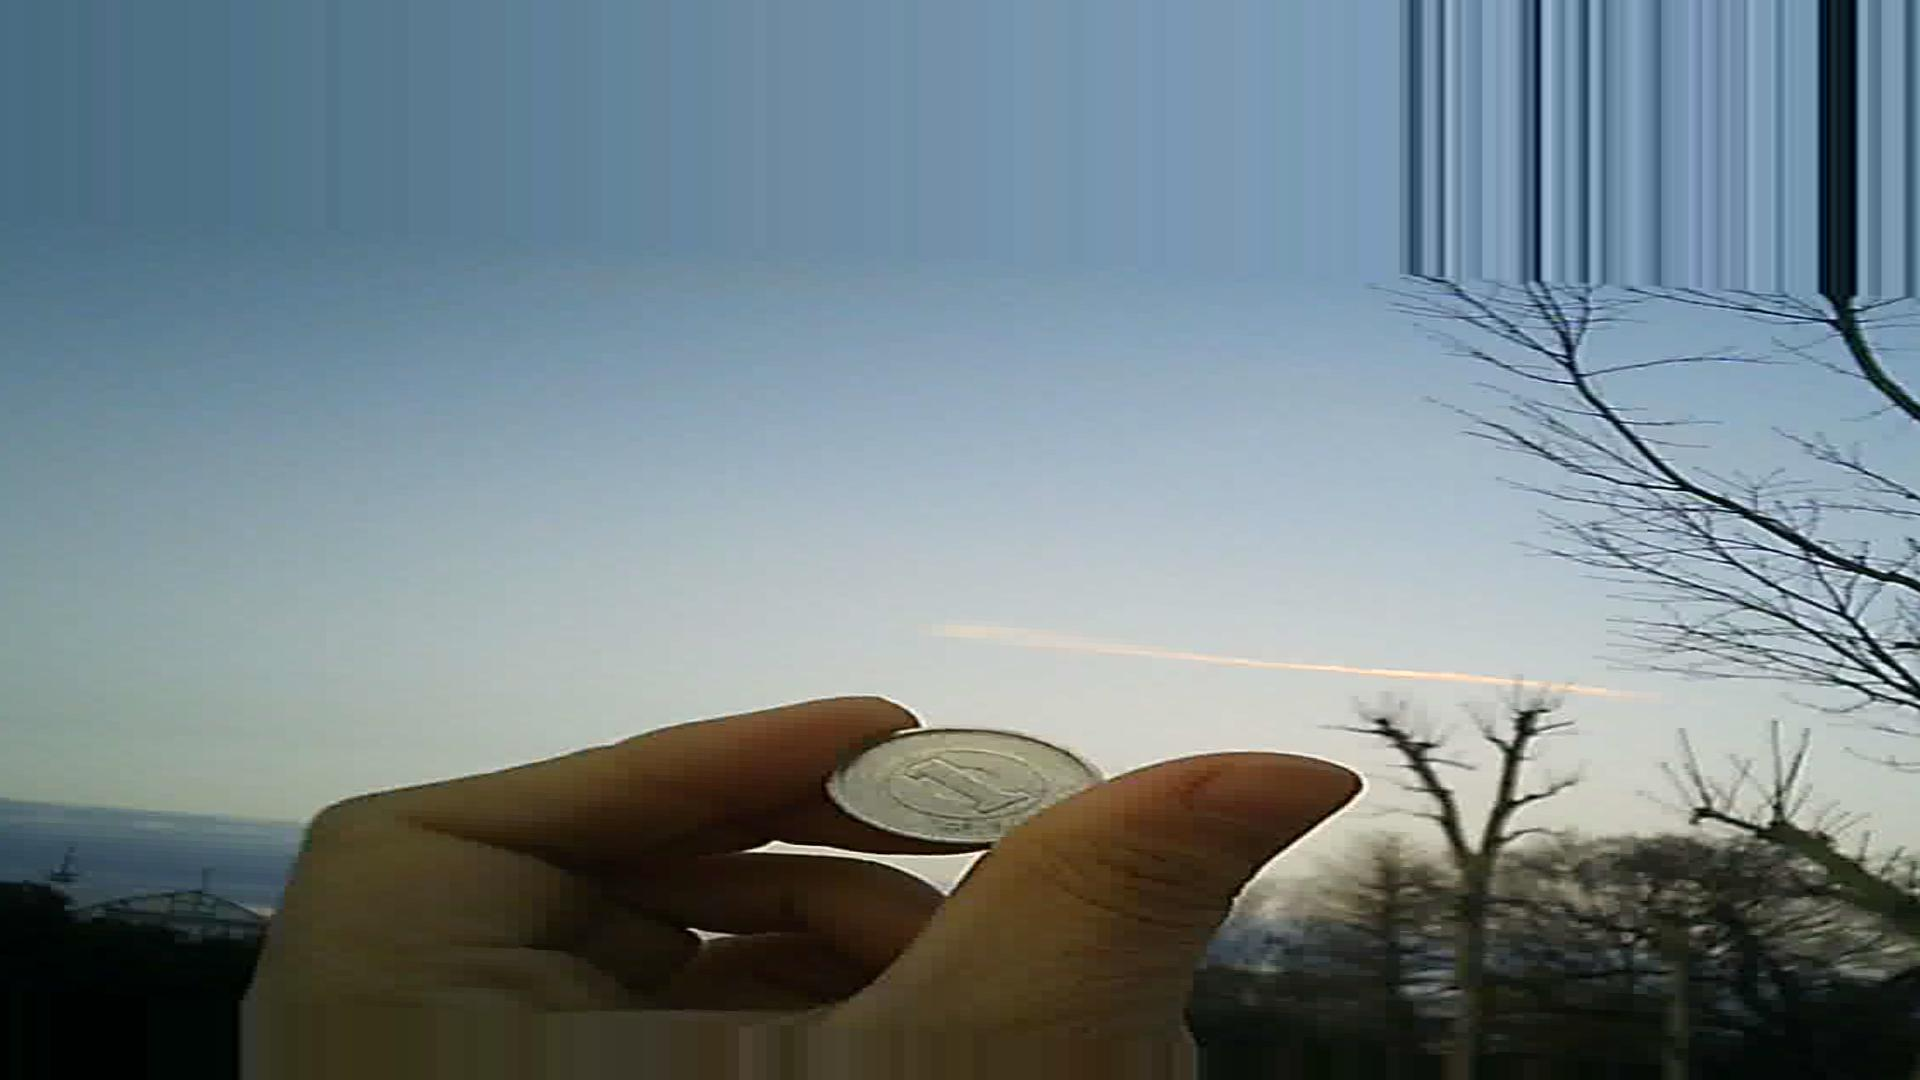1 Yen: (818, 699, 1113, 872)
